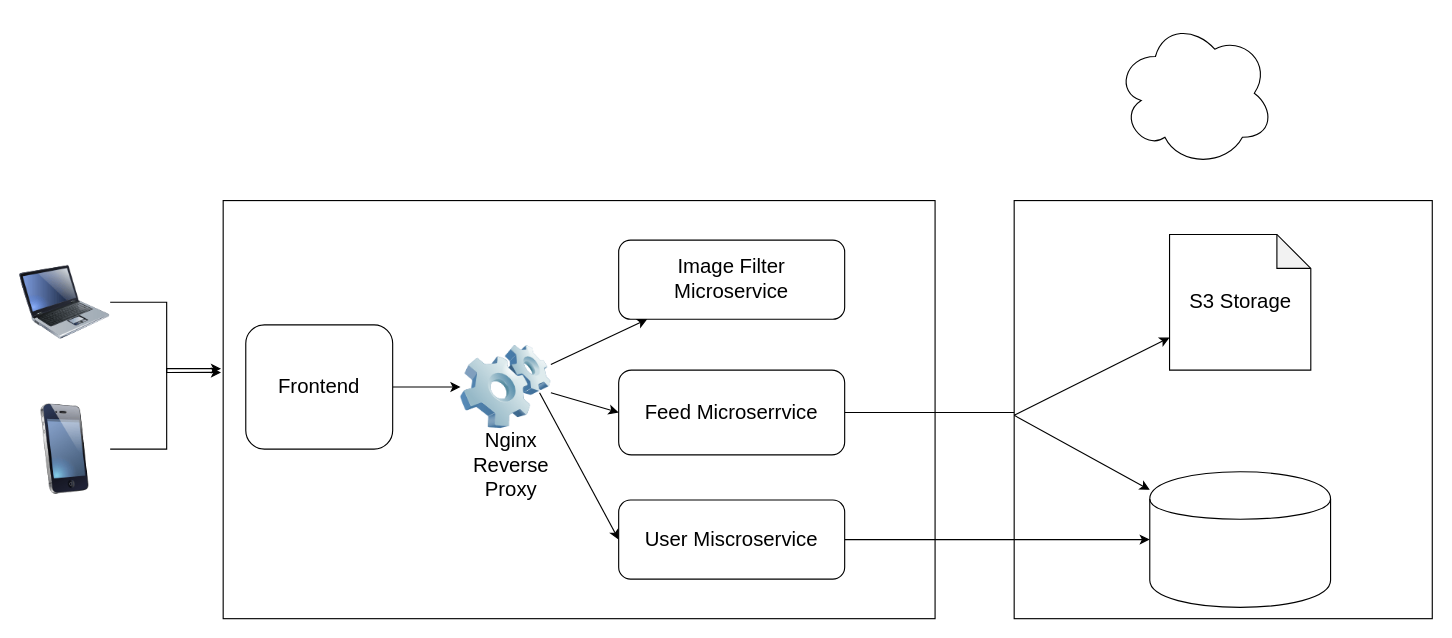
This 1452x638 diagram has some shape labels left out. The centre of each missing label's shape, as x and y in pixels:
AWS Cloud: [1194,93]
RDS/Postgres: [1240,539]
